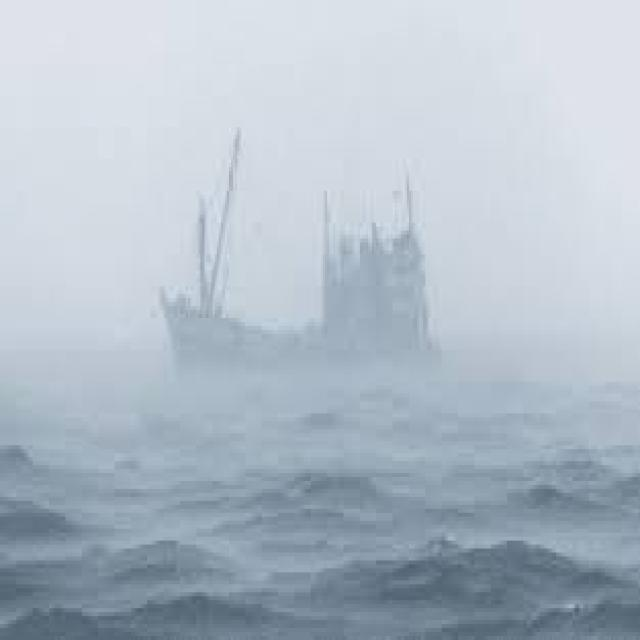fishing boat: (156, 131, 442, 380)
